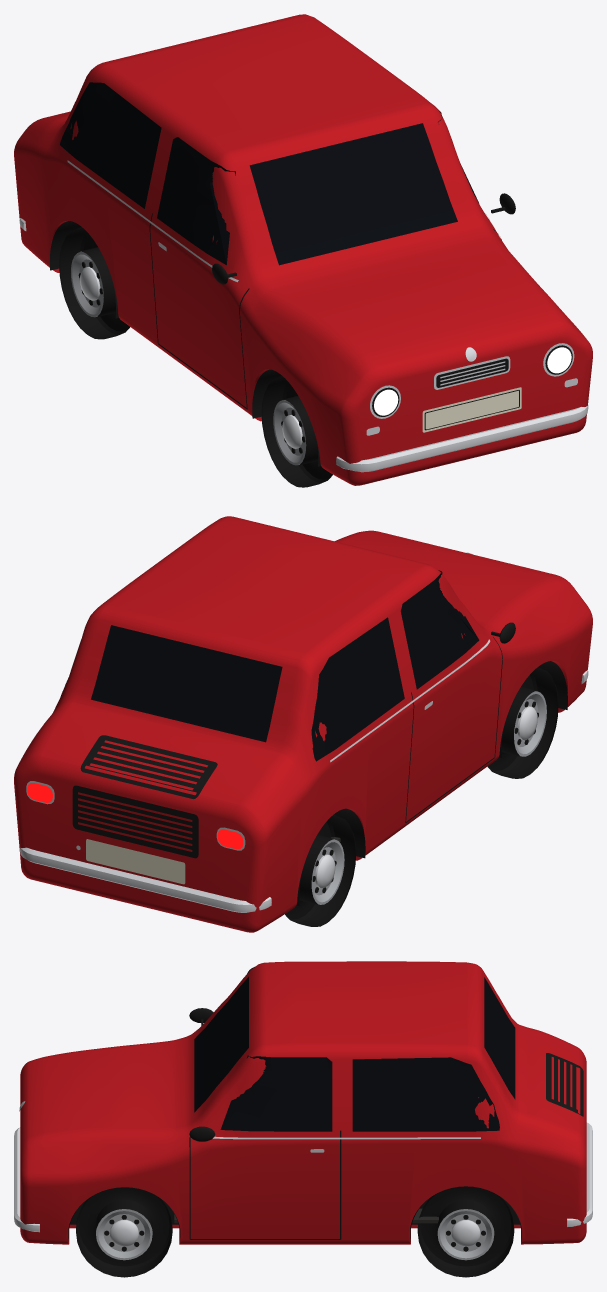
File: fiat126.glb
3 views of the same model, one above another, from view 1: azimuth 30°, elevation 25°; view 2: azimuth 150°, elevation 25°; view 3: azimuth 270°, elevation 25° (orthographic). The views are drawn at different scales.
Visible parts, largest first — view 1: body, glass, trim, wheel_rr, wheel_fr, lights; view 2: body, glass, trim, wheel_rr, wheel_fr, lights; view 3: body, glass, wheel_fl, wheel_rl, trim, mirrors.
Part boxes in pixels (x1=…): body: x1=14, y1=14, x2=592, y2=485; glass: x1=60, y1=82, x2=478, y2=265; trim: x1=19, y1=160, x2=588, y2=472; wheel_rr: x1=59, y1=227, x2=129, y2=339; wheel_fr: x1=261, y1=376, x2=332, y2=487; lights: x1=374, y1=347, x2=571, y2=415; body: x1=14, y1=516, x2=592, y2=932; glass: x1=60, y1=570, x2=479, y2=761; trim: x1=20, y1=552, x2=588, y2=912; wheel_rr: x1=285, y1=815, x2=356, y2=926; wheel_fr: x1=487, y1=667, x2=558, y2=778; lights: x1=27, y1=783, x2=243, y2=849; body: x1=20, y1=961, x2=586, y2=1244; glass: x1=194, y1=967, x2=515, y2=1131; wheel_fl: x1=76, y1=1187, x2=172, y2=1277; wheel_rl: x1=417, y1=1186, x2=514, y2=1277; trim: x1=14, y1=1053, x2=592, y2=1241; mirrors: x1=189, y1=1008, x2=215, y2=1141.
Size of the model in its own units: 1.54 by 1.34 by 3.12.
